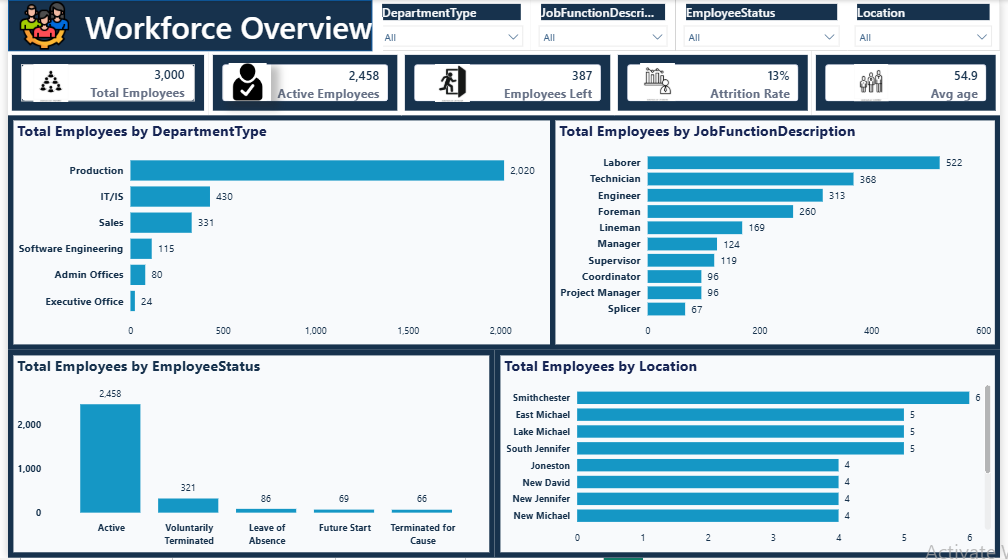

Layout of this report page (visuals, bound fields, positions):
{"tool":"powerbi","page":{"name":"Workforce Overview","canvas":[1280,720],"ordinal":0},"visuals":[{"type":"clusteredBarChart","fields":{"Y":["All_Measures.Total Employee"],"Category":["Messy_HR_Dataset_Detailed.DepartmentType"]},"box":[0,148.8,710.1,303.3],"z":0},{"type":"clusteredBarChart","fields":{"Y":["All_Measures.Total Employee"],"Category":["Messy_HR_Dataset_Detailed.JobFunctionDescription"]},"box":[698.7,148.8,581.1,303.3],"z":1000},{"type":"clusteredColumnChart","fields":{"Category":["Messy_HR_Dataset_Detailed.EmployeeStatus"],"Y":["All_Measures.Total Employee"]},"box":[0,452.1,627.9,267.9],"z":2000},{"type":"clusteredBarChart","fields":{"Y":["All_Measures.Total Employee"],"Category":["Messy_HR_Dataset_Detailed.Location"]},"box":[627.9,452.1,652,267.9],"z":3000},{"type":"slicer","fields":{"Values":["Messy_HR_Dataset_Detailed.DepartmentType"]},"box":[470,0,205,65],"z":4000},{"type":"slicer","fields":{"Values":["Messy_HR_Dataset_Detailed.JobFunctionDescription"]},"box":[675,0,186.2,65],"z":5000},{"type":"slicer","fields":{"Values":["Messy_HR_Dataset_Detailed.EmployeeStatus"]},"box":[861.7,0,221.1,65.2],"z":6000},{"type":"slicer","fields":{"Values":["Messy_HR_Dataset_Detailed.Location"]},"box":[1082.8,0,197,65.2],"z":7000},{"type":"textbox","box":[0,21.6,483.8,44.6],"z":8000},{"type":"cardVisual","fields":{"Data":["All_Measures.Total Employees"]},"box":[0,66.2,258.8,82.5],"z":9000},{"type":"cardVisual","fields":{"Data":["All_Measures.Active Employees"]},"box":[258.8,66.2,248.8,82.5],"z":10000},{"type":"cardVisual","fields":{"Data":["All_Measures.Attrition Rate"]},"box":[782.5,66.2,255,82.5],"z":11000},{"type":"cardVisual","fields":{"Data":["All_Measures.Employees Left"]},"box":[507.5,66.2,275,82.5],"z":12000},{"type":"image","box":[16.2,82.5,77.5,48.8],"z":13000},{"type":"image","box":[278.8,81.2,61.2,48.8],"z":14000},{"type":"image","box":[520,82.5,107.5,48.8],"z":15000},{"type":"image","box":[802.5,81.2,71.2,48.8],"z":16000},{"type":"cardVisual","fields":{"Data":["All_Measures.Avg age"]},"box":[1037.5,66.2,242.5,82.5],"z":17000},{"type":"image","box":[1070,82.5,88.8,47.5],"z":18000},{"type":"shape","box":[0,0,470,66.2],"z":19000},{"type":"image","box":[0,0,93.8,66.2],"z":20000}]}

Visuals, with their boxes in screenshot pixels (x1, y1, x2, y2), scaled from the page's 1280x720 canvas onto the 1008x560 screenshot:
clusteredBarChart - All_Measures.Total Employee x Messy_HR_Dataset_Detailed.DepartmentType: 0/116/559/352
clusteredBarChart - All_Measures.Total Employee x Messy_HR_Dataset_Detailed.JobFunctionDescription: 550/116/1007/352
clusteredColumnChart - Messy_HR_Dataset_Detailed.EmployeeStatus x All_Measures.Total Employee: 0/352/494/559
clusteredBarChart - All_Measures.Total Employee x Messy_HR_Dataset_Detailed.Location: 494/352/1007/559
slicer - Messy_HR_Dataset_Detailed.DepartmentType: 370/0/532/51
slicer - Messy_HR_Dataset_Detailed.JobFunctionDescription: 532/0/678/51
slicer - Messy_HR_Dataset_Detailed.EmployeeStatus: 679/0/853/51
slicer - Messy_HR_Dataset_Detailed.Location: 853/0/1007/51
textbox: 0/17/381/51
cardVisual - All_Measures.Total Employees: 0/51/204/116
cardVisual - All_Measures.Active Employees: 204/51/400/116
cardVisual - All_Measures.Attrition Rate: 616/51/817/116
cardVisual - All_Measures.Employees Left: 400/51/616/116
image: 13/64/74/102
image: 220/63/268/101
image: 410/64/494/102
image: 632/63/688/101
cardVisual - All_Measures.Avg age: 817/51/1007/116
image: 843/64/913/101
shape: 0/0/370/51
image: 0/0/74/51
